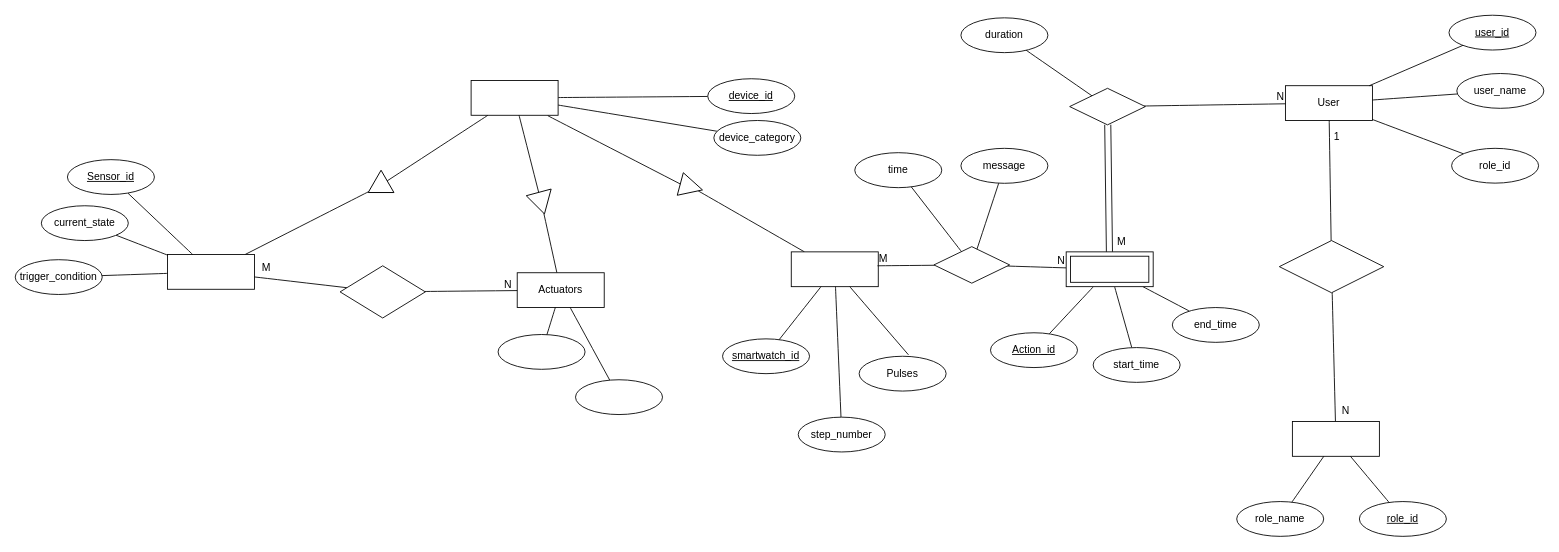
Some shapes in this 1559 by 552 pixel diagram are drawn without their labels. The centre of each missing label's shape, as x and y in pixels:
"Action" belongs at point (541, 351).
"Activate" belongs at point (382, 291).
"Activities" belongs at point (1109, 269).
"Actuator_id" belongs at point (619, 397).
"Device" belongs at point (514, 97).
"Does" belongs at point (1107, 106).
"Permission" belongs at point (1331, 266).
"Reminds" belongs at point (971, 264).
"Roles" belongs at point (1335, 438).
"Sensors" belongs at point (210, 271).
"Smartwatch" belongs at point (834, 269).
